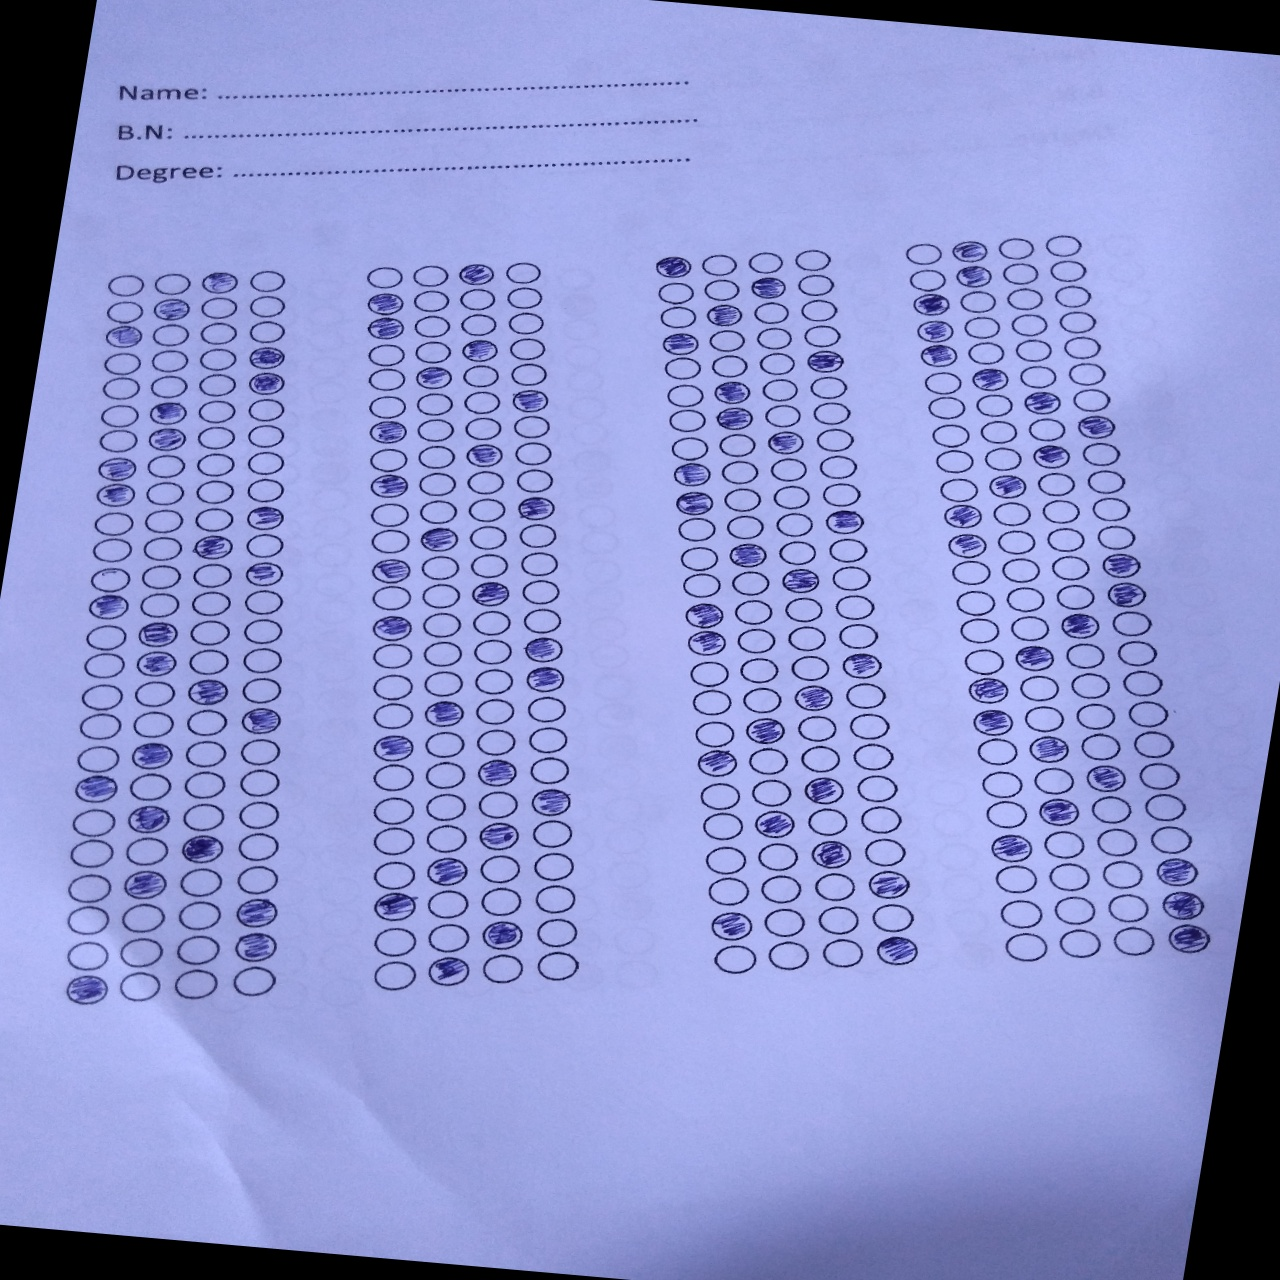not-c: (368, 956, 421, 993), (533, 947, 585, 983), (369, 922, 422, 958), (477, 952, 530, 987), (530, 915, 584, 949), (229, 964, 280, 999), (418, 823, 471, 855), (532, 884, 585, 915), (529, 818, 581, 850), (421, 888, 474, 920), (176, 866, 224, 900), (118, 935, 166, 969), (859, 835, 907, 869), (754, 840, 802, 874), (796, 742, 844, 776), (853, 771, 901, 805), (845, 707, 893, 741), (1073, 700, 1121, 734), (978, 767, 1026, 801), (685, 656, 733, 690), (1039, 828, 1087, 862), (1085, 794, 1133, 828), (367, 825, 418, 857), (477, 885, 529, 917), (417, 792, 469, 824), (469, 789, 520, 821), (478, 853, 530, 885), (531, 850, 583, 881), (422, 922, 474, 954), (1005, 930, 1051, 964), (1105, 891, 1152, 925), (844, 680, 891, 714), (1116, 636, 1163, 670), (1125, 697, 1172, 731), (1131, 727, 1178, 761), (787, 651, 833, 685), (696, 778, 743, 812), (1094, 826, 1141, 860), (64, 904, 113, 937), (64, 871, 113, 904), (1098, 858, 1146, 891), (813, 870, 862, 903), (847, 738, 896, 771), (1077, 729, 1125, 762), (1136, 760, 1184, 792), (1142, 791, 1190, 824), (737, 653, 785, 686), (700, 844, 748, 877), (123, 835, 169, 869), (959, 644, 1005, 678), (68, 805, 115, 838), (120, 901, 166, 934), (763, 939, 810, 972), (818, 937, 865, 969), (1056, 926, 1103, 959), (1041, 892, 1088, 925), (1046, 862, 1092, 894), (857, 803, 904, 836), (813, 903, 860, 935), (869, 901, 915, 934), (1148, 824, 1194, 857), (1109, 925, 1156, 958), (712, 942, 758, 975), (704, 874, 751, 907), (794, 713, 840, 745), (974, 736, 1021, 769), (748, 776, 795, 809), (687, 687, 734, 720), (738, 683, 785, 716), (1067, 670, 1114, 703), (1121, 667, 1167, 700), (1022, 702, 1069, 735), (1029, 763, 1076, 796), (1061, 640, 1108, 673), (835, 620, 881, 653), (828, 561, 874, 594), (125, 770, 173, 802), (173, 899, 222, 931), (115, 971, 163, 1002), (993, 864, 1041, 896), (998, 897, 1043, 930), (805, 804, 851, 837), (700, 810, 745, 843), (744, 744, 790, 777), (1017, 672, 1063, 704), (79, 680, 125, 712), (233, 864, 280, 896), (64, 939, 111, 971), (170, 968, 217, 1000), (175, 933, 222, 965), (68, 837, 115, 869), (74, 743, 121, 775), (760, 871, 806, 903), (982, 799, 1029, 831), (832, 590, 879, 621), (525, 693, 570, 726), (87, 564, 132, 595), (183, 707, 229, 738), (420, 636, 465, 668), (236, 767, 281, 798), (692, 716, 737, 748), (952, 588, 998, 620), (520, 602, 567, 633), (136, 588, 181, 620), (185, 617, 230, 648), (241, 646, 286, 678), (474, 666, 518, 697), (422, 728, 467, 760), (423, 760, 468, 791), (788, 622, 832, 654), (949, 559, 994, 591), (826, 536, 871, 567), (189, 588, 234, 619), (131, 678, 177, 708), (475, 726, 520, 756), (469, 636, 515, 667), (469, 607, 515, 638), (417, 552, 463, 583), (370, 762, 416, 792), (181, 802, 226, 832), (234, 831, 280, 862), (527, 756, 572, 787), (86, 622, 130, 653), (139, 561, 184, 592), (139, 532, 184, 563), (186, 647, 231, 678), (79, 710, 123, 741), (369, 700, 414, 730), (370, 672, 415, 702), (370, 641, 415, 672), (527, 726, 572, 756), (372, 795, 416, 825), (1109, 610, 1153, 640), (918, 367, 962, 397), (1076, 440, 1121, 470), (964, 338, 1008, 368), (1067, 359, 1111, 389), (80, 651, 125, 680), (131, 709, 177, 738), (241, 617, 287, 646), (420, 668, 465, 697), (420, 608, 465, 638), (418, 581, 464, 611), (183, 770, 229, 799), (184, 738, 230, 768), (234, 799, 280, 829), (236, 737, 281, 767), (372, 860, 417, 890), (816, 452, 862, 482), (775, 537, 821, 566), (1092, 523, 1138, 552), (672, 515, 717, 544), (1047, 256, 1092, 285), (246, 266, 290, 297), (197, 291, 240, 321), (149, 320, 192, 350), (722, 484, 765, 515), (241, 675, 286, 704), (471, 696, 516, 726), (730, 597, 775, 626), (999, 557, 1043, 586), (769, 484, 813, 513), (768, 457, 812, 486), (772, 508, 817, 537), (1089, 493, 1133, 523), (1051, 583, 1096, 612), (679, 571, 723, 600), (734, 626, 778, 655), (1055, 307, 1099, 336), (904, 264, 948, 293), (922, 393, 967, 422), (927, 420, 972, 449), (979, 444, 1023, 474), (1041, 497, 1085, 526), (987, 501, 1032, 530), (961, 312, 1006, 341), (246, 318, 288, 348), (1047, 554, 1092, 583), (1008, 613, 1051, 642), (1005, 585, 1048, 614), (934, 448, 978, 477), (937, 476, 980, 505), (723, 512, 767, 542), (676, 543, 720, 572), (901, 238, 945, 267), (1085, 467, 1129, 496), (976, 418, 1020, 448), (1071, 387, 1115, 416), (958, 617, 1002, 645), (728, 568, 772, 597), (782, 594, 826, 622), (743, 248, 788, 277), (715, 431, 760, 459), (716, 458, 761, 486), (667, 434, 712, 462), (1060, 333, 1104, 361), (1034, 471, 1078, 499), (973, 390, 1017, 418), (105, 268, 147, 299), (102, 349, 144, 379), (152, 268, 195, 298), (103, 295, 147, 324), (241, 588, 285, 617), (191, 560, 234, 588), (995, 527, 1039, 556), (1044, 526, 1088, 554), (1051, 282, 1095, 311), (813, 425, 857, 454), (792, 245, 836, 273), (956, 288, 1000, 316), (93, 508, 134, 537), (91, 533, 132, 563), (1013, 338, 1057, 365), (410, 261, 452, 290), (363, 263, 406, 291), (519, 577, 561, 605), (370, 583, 413, 611), (821, 481, 864, 508), (1008, 311, 1051, 338), (414, 389, 455, 417), (409, 287, 450, 315), (367, 392, 408, 420), (368, 365, 409, 393), (365, 341, 406, 369), (243, 395, 284, 423), (198, 343, 239, 372), (198, 318, 239, 346), (411, 312, 452, 340), (458, 286, 499, 314), (457, 309, 498, 338), (459, 363, 501, 392), (462, 415, 503, 443), (508, 360, 549, 388), (505, 309, 546, 338), (505, 285, 546, 313), (502, 258, 543, 286), (100, 375, 141, 403), (145, 478, 186, 506), (145, 452, 186, 481), (149, 373, 190, 401), (195, 449, 236, 477), (195, 423, 236, 451), (416, 469, 457, 497), (196, 397, 237, 425), (244, 476, 285, 504), (246, 448, 287, 476), (245, 422, 286, 450), (416, 444, 457, 472), (414, 417, 455, 445), (367, 445, 408, 474), (518, 550, 559, 578), (246, 531, 287, 559), (468, 523, 509, 551), (418, 499, 459, 527), (1027, 417, 1071, 443), (1016, 365, 1061, 390), (1002, 288, 1047, 314), (753, 324, 795, 350), (806, 374, 849, 401), (706, 327, 748, 354), (761, 403, 803, 430), (663, 381, 706, 408), (661, 354, 703, 381), (653, 304, 695, 331), (465, 469, 505, 497), (196, 370, 236, 399), (511, 411, 551, 440), (100, 427, 139, 455), (100, 402, 139, 430), (150, 347, 190, 375), (195, 506, 234, 535), (372, 526, 411, 554), (370, 501, 410, 529), (998, 260, 1041, 286), (411, 338, 452, 365), (462, 390, 503, 417), (512, 440, 553, 467), (144, 508, 185, 535), (467, 497, 508, 524), (750, 300, 791, 327), (697, 252, 738, 279), (656, 278, 697, 305), (810, 400, 852, 425), (708, 352, 750, 377), (697, 275, 740, 301), (195, 477, 234, 504), (518, 523, 558, 550), (516, 467, 556, 493), (1044, 231, 1084, 258), (760, 376, 799, 403), (798, 298, 838, 325), (667, 407, 707, 434), (755, 350, 796, 376), (246, 294, 286, 320), (508, 336, 547, 362), (795, 273, 835, 299), (801, 322, 840, 348), (998, 234, 1037, 260)
taken-c: (62, 972, 110, 1007), (121, 869, 170, 903), (425, 954, 474, 988), (1164, 922, 1212, 956), (969, 704, 1017, 738), (942, 527, 990, 561), (72, 772, 121, 805), (234, 896, 281, 930), (231, 930, 278, 964), (874, 933, 921, 967), (1158, 888, 1205, 922), (866, 869, 913, 903), (1083, 763, 1130, 797), (1036, 794, 1083, 828), (801, 772, 847, 806), (753, 806, 799, 840), (177, 833, 225, 866), (985, 831, 1033, 864), (1026, 734, 1074, 767), (964, 674, 1012, 707), (743, 715, 791, 748), (723, 540, 771, 573), (678, 598, 726, 631), (837, 648, 885, 681), (821, 504, 869, 537), (777, 564, 823, 598), (806, 837, 853, 870), (707, 910, 754, 942), (789, 681, 836, 714), (1012, 640, 1058, 673), (692, 747, 738, 779), (1103, 578, 1150, 611), (682, 628, 729, 661), (373, 890, 418, 922), (124, 805, 172, 836), (421, 697, 467, 729), (425, 856, 470, 887), (477, 821, 522, 852), (529, 787, 574, 817), (130, 740, 175, 770), (1155, 857, 1199, 887), (478, 920, 524, 949), (1058, 610, 1101, 641), (1099, 550, 1142, 581), (368, 556, 411, 586), (239, 704, 282, 735), (136, 619, 179, 649), (372, 733, 415, 763), (522, 634, 566, 663), (475, 757, 519, 787), (464, 442, 506, 472), (95, 454, 137, 484), (147, 397, 190, 427), (102, 321, 145, 350), (243, 559, 286, 588), (470, 580, 513, 610), (191, 532, 234, 561), (93, 481, 136, 510), (135, 648, 178, 678), (968, 365, 1012, 394), (198, 267, 240, 297), (246, 368, 288, 397), (370, 614, 413, 644), (516, 492, 558, 522), (418, 525, 461, 554), (508, 384, 550, 414), (244, 504, 286, 533), (365, 312, 407, 341), (87, 592, 129, 621), (1021, 387, 1063, 416), (150, 295, 193, 324), (367, 417, 410, 445), (411, 363, 455, 392), (459, 335, 501, 365), (365, 288, 407, 316), (245, 342, 287, 370), (368, 472, 410, 501), (145, 425, 188, 454), (186, 678, 229, 706), (458, 261, 501, 290), (673, 490, 715, 517), (669, 461, 712, 488), (1030, 443, 1073, 470), (986, 474, 1028, 501), (652, 253, 694, 280), (659, 331, 701, 358), (911, 291, 953, 318), (710, 377, 750, 406), (942, 503, 983, 530), (804, 347, 845, 374), (712, 406, 753, 433), (1074, 415, 1115, 442), (748, 275, 789, 302), (704, 302, 745, 329), (914, 316, 955, 343), (918, 341, 959, 368), (767, 430, 809, 456), (953, 263, 993, 290), (948, 239, 989, 265)
